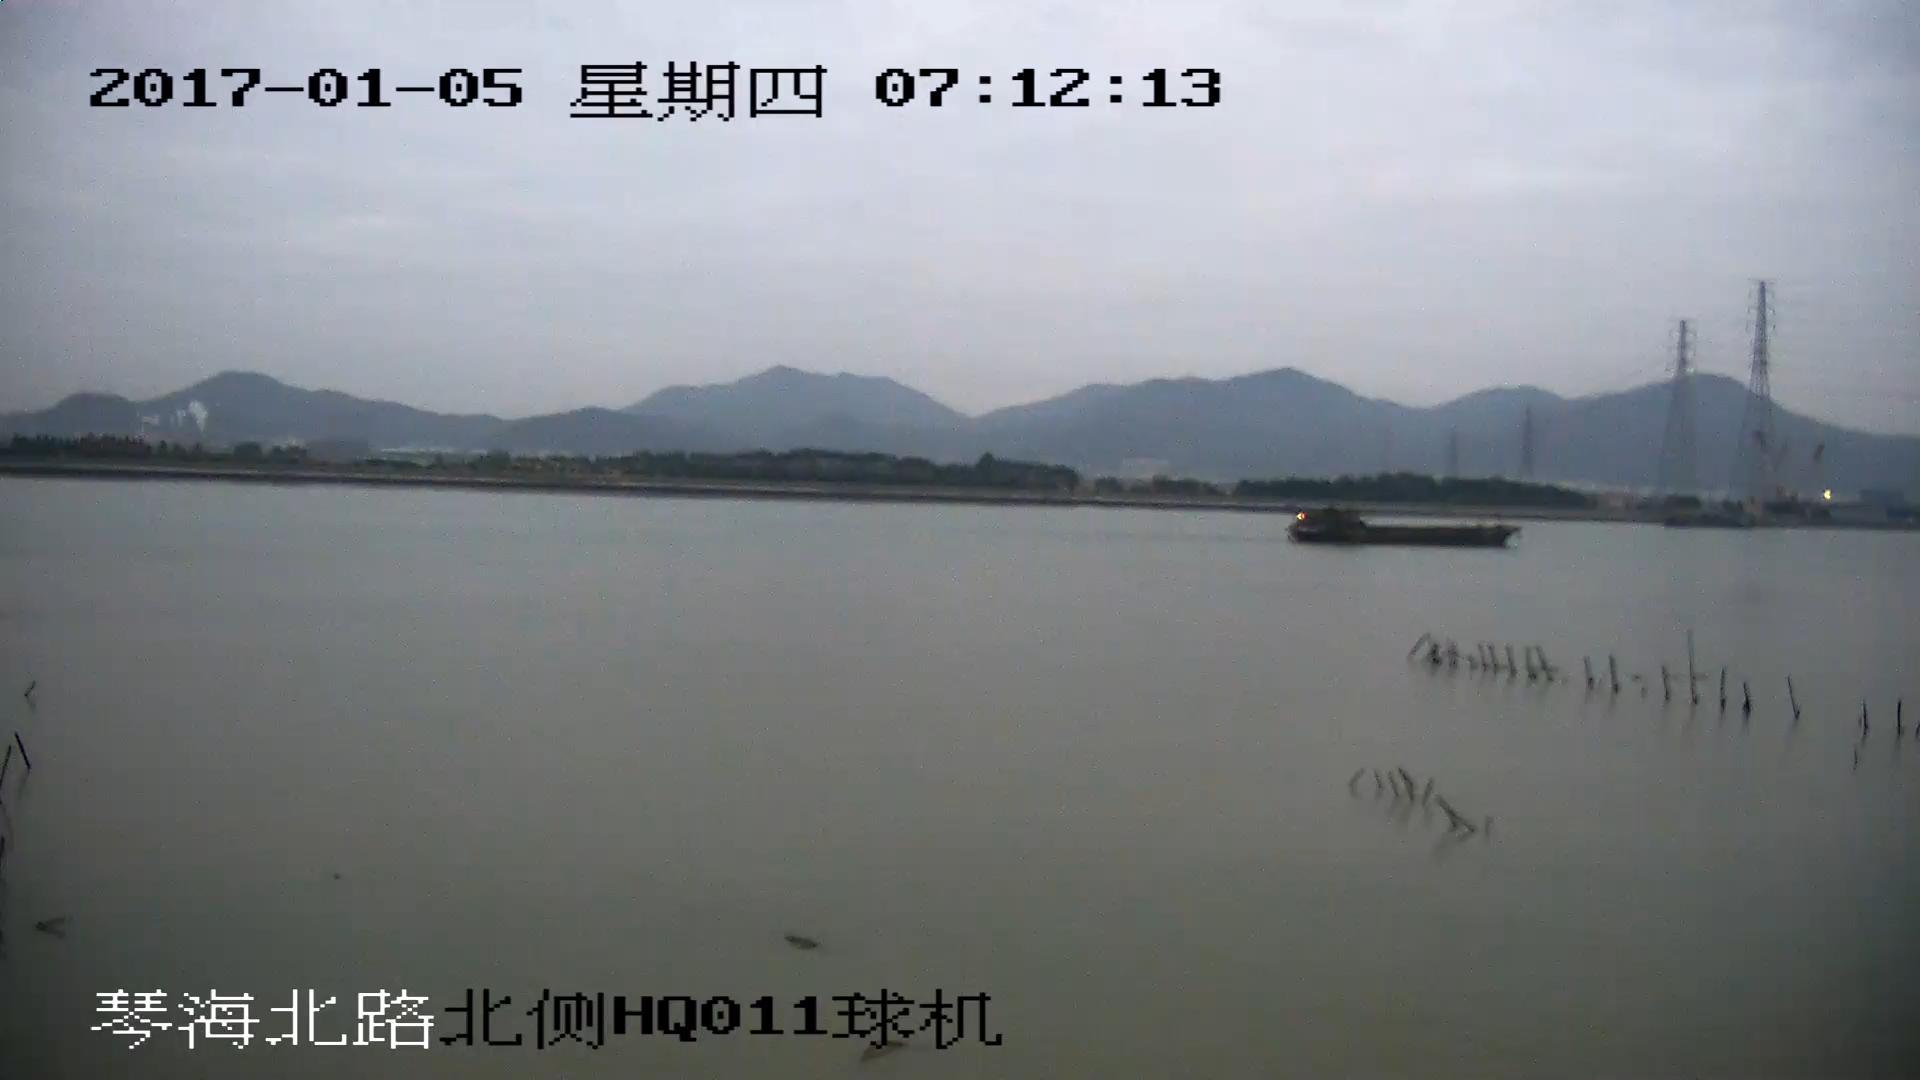Ship: (1288, 509, 1520, 550)
